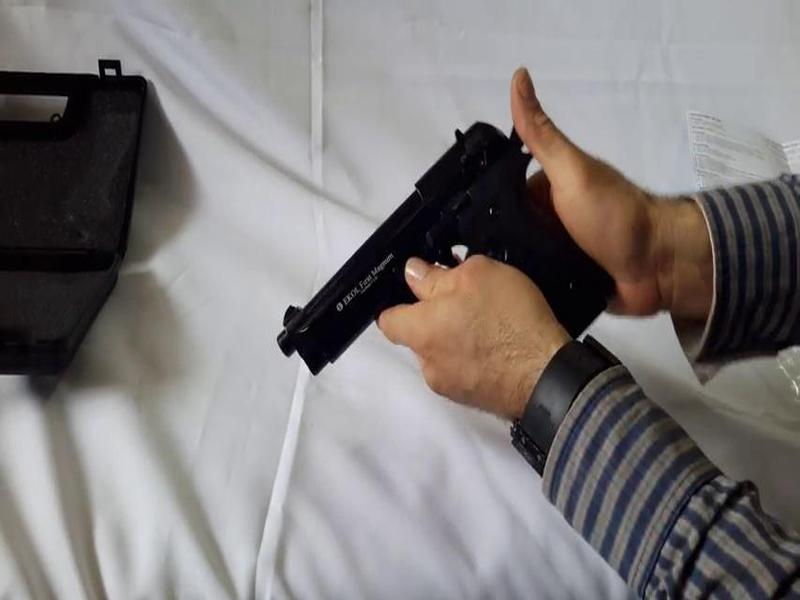Pistola: (265, 104, 661, 419)
